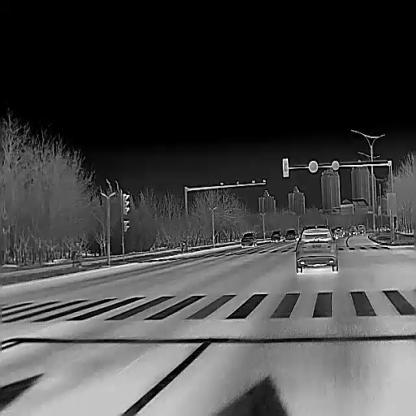car: (295, 225, 337, 272), (240, 232, 256, 247), (270, 230, 281, 241), (347, 224, 358, 235), (285, 229, 295, 240), (334, 226, 345, 236), (357, 224, 365, 234)
